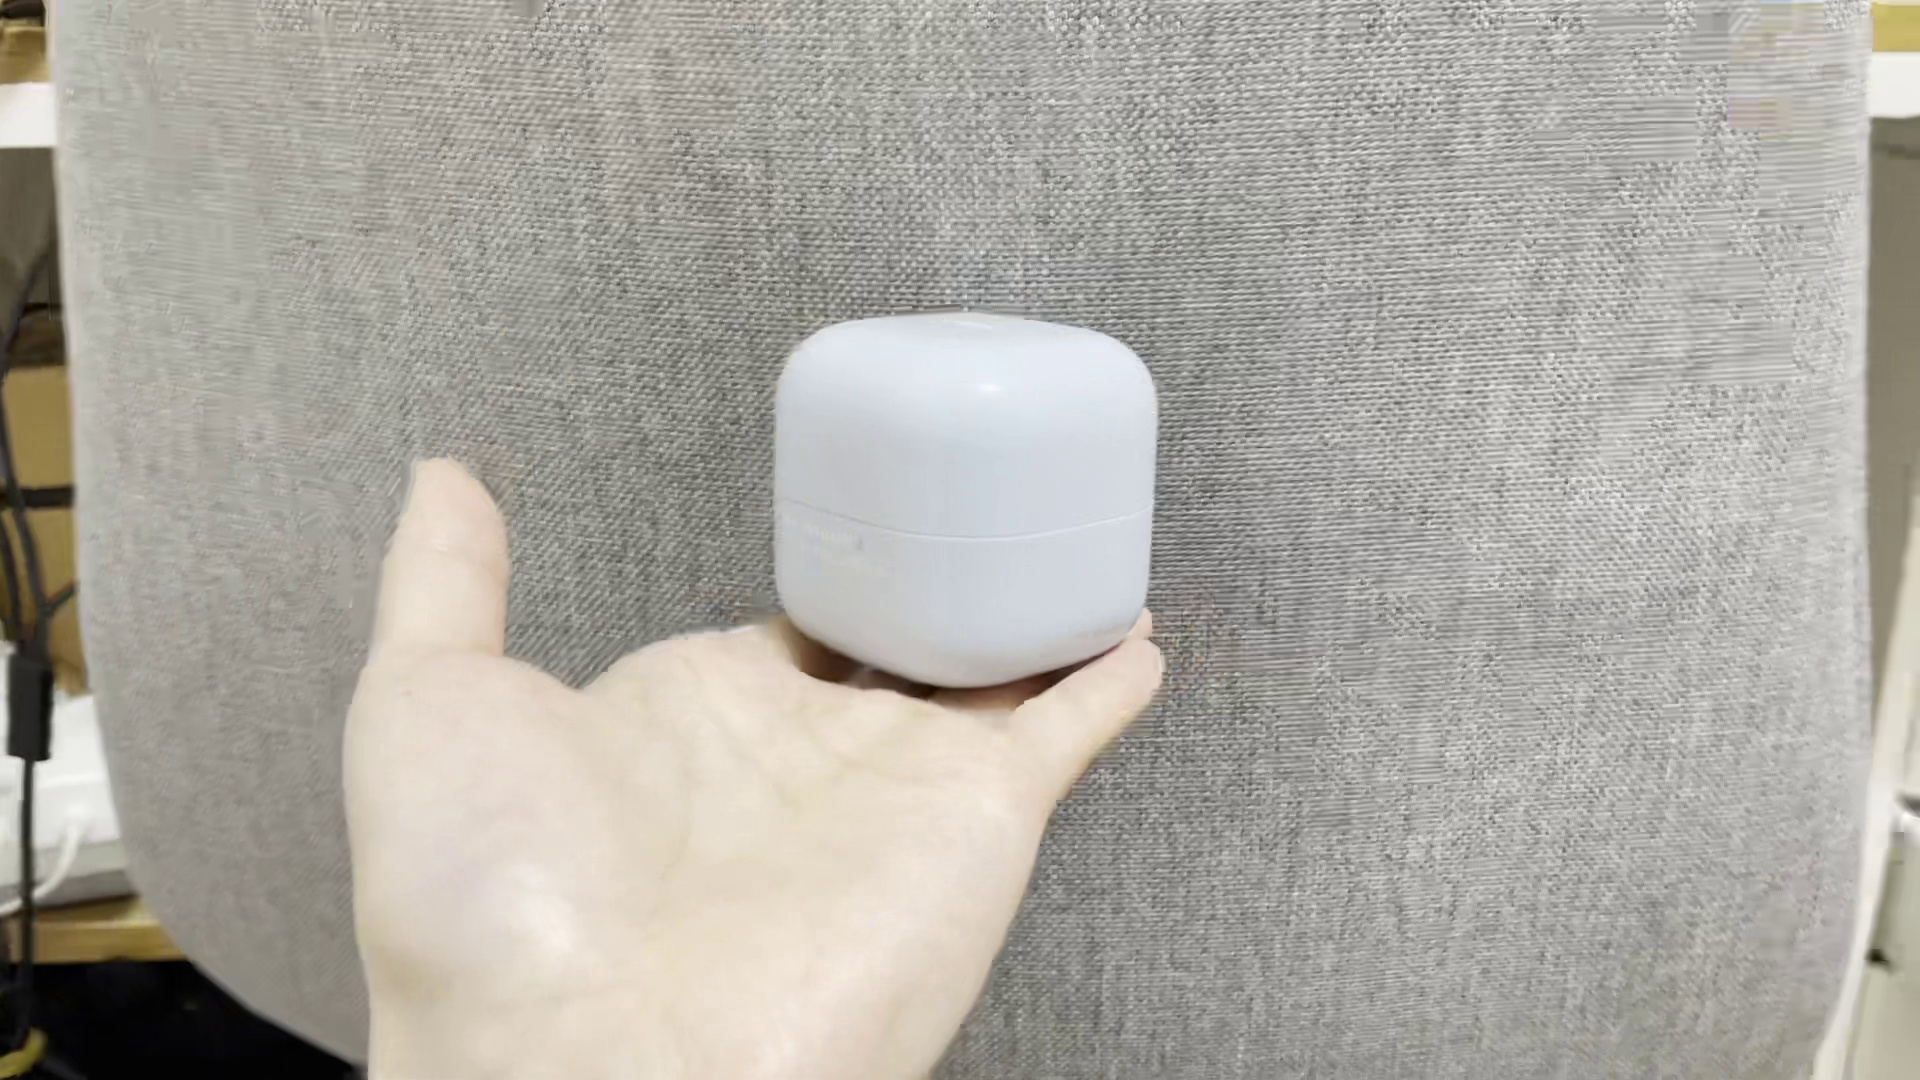cream: (775, 310, 1158, 686)
